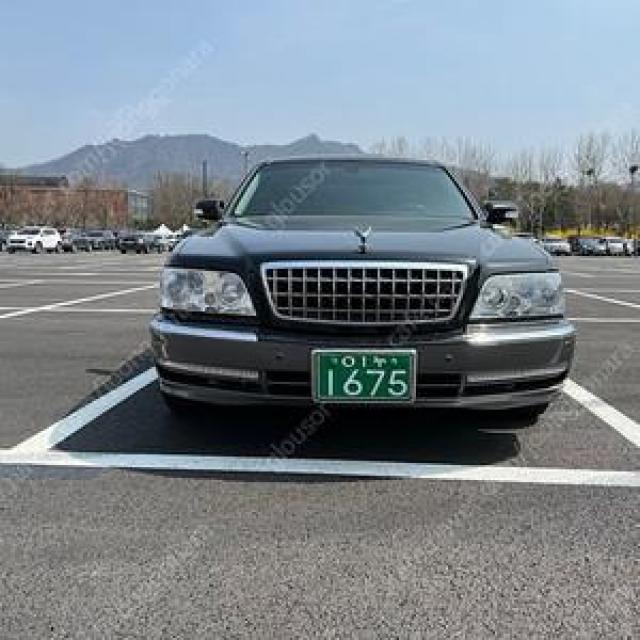car: (144, 146, 580, 441)
illegal_plate: (306, 346, 421, 408)
